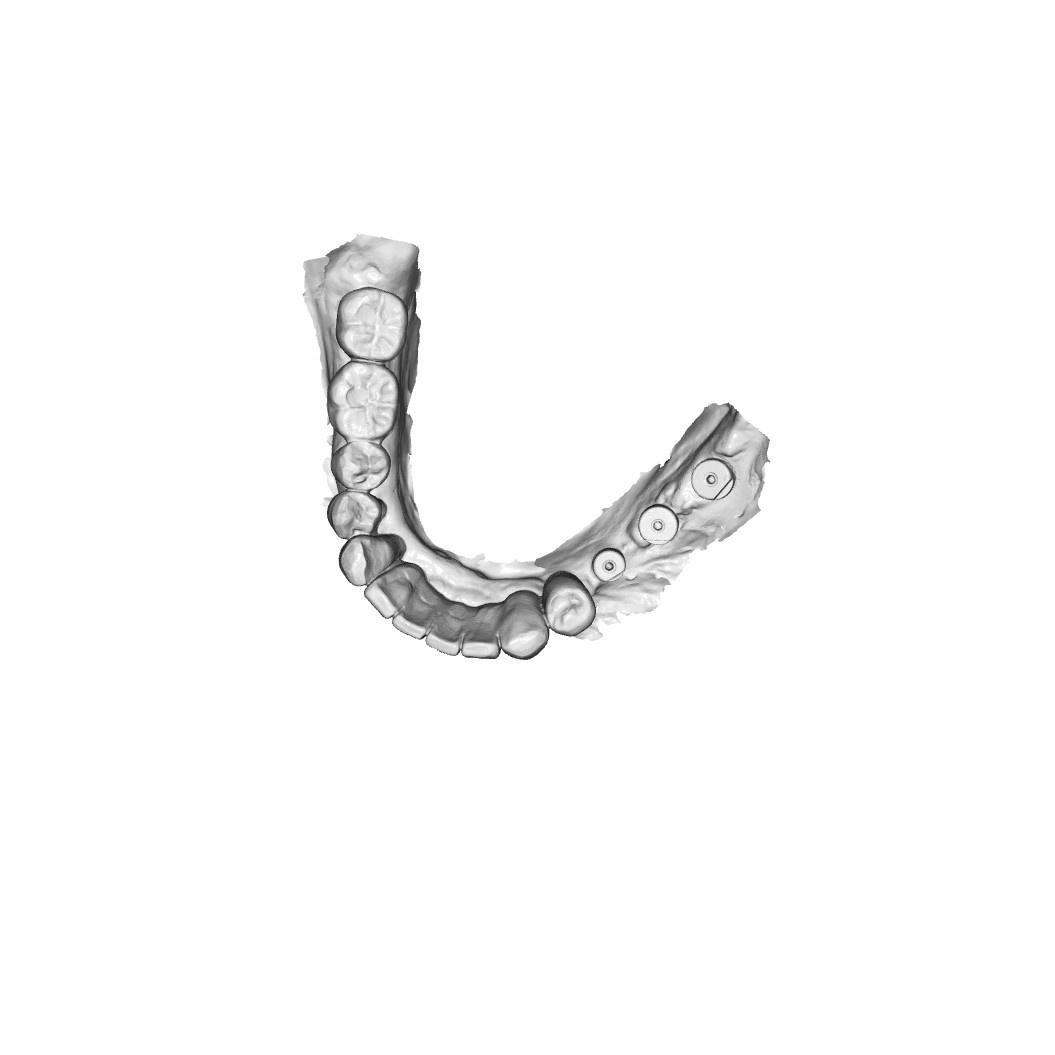canine: (339, 534, 407, 587), (498, 591, 548, 662)
implant: (693, 456, 732, 502), (639, 504, 678, 548), (594, 547, 631, 583)
incisor: (464, 603, 503, 658), (394, 595, 440, 641), (365, 574, 410, 618), (429, 609, 468, 655)
molar: (328, 359, 401, 441), (333, 288, 409, 364)
premolar: (543, 573, 595, 636), (330, 443, 391, 492), (327, 491, 387, 539)
